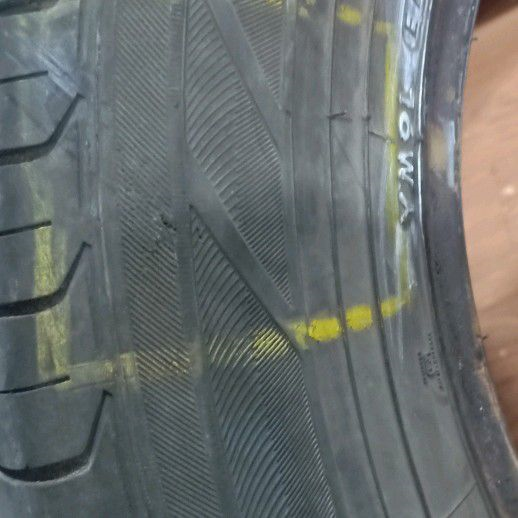CBU: (160, 152, 354, 260)
